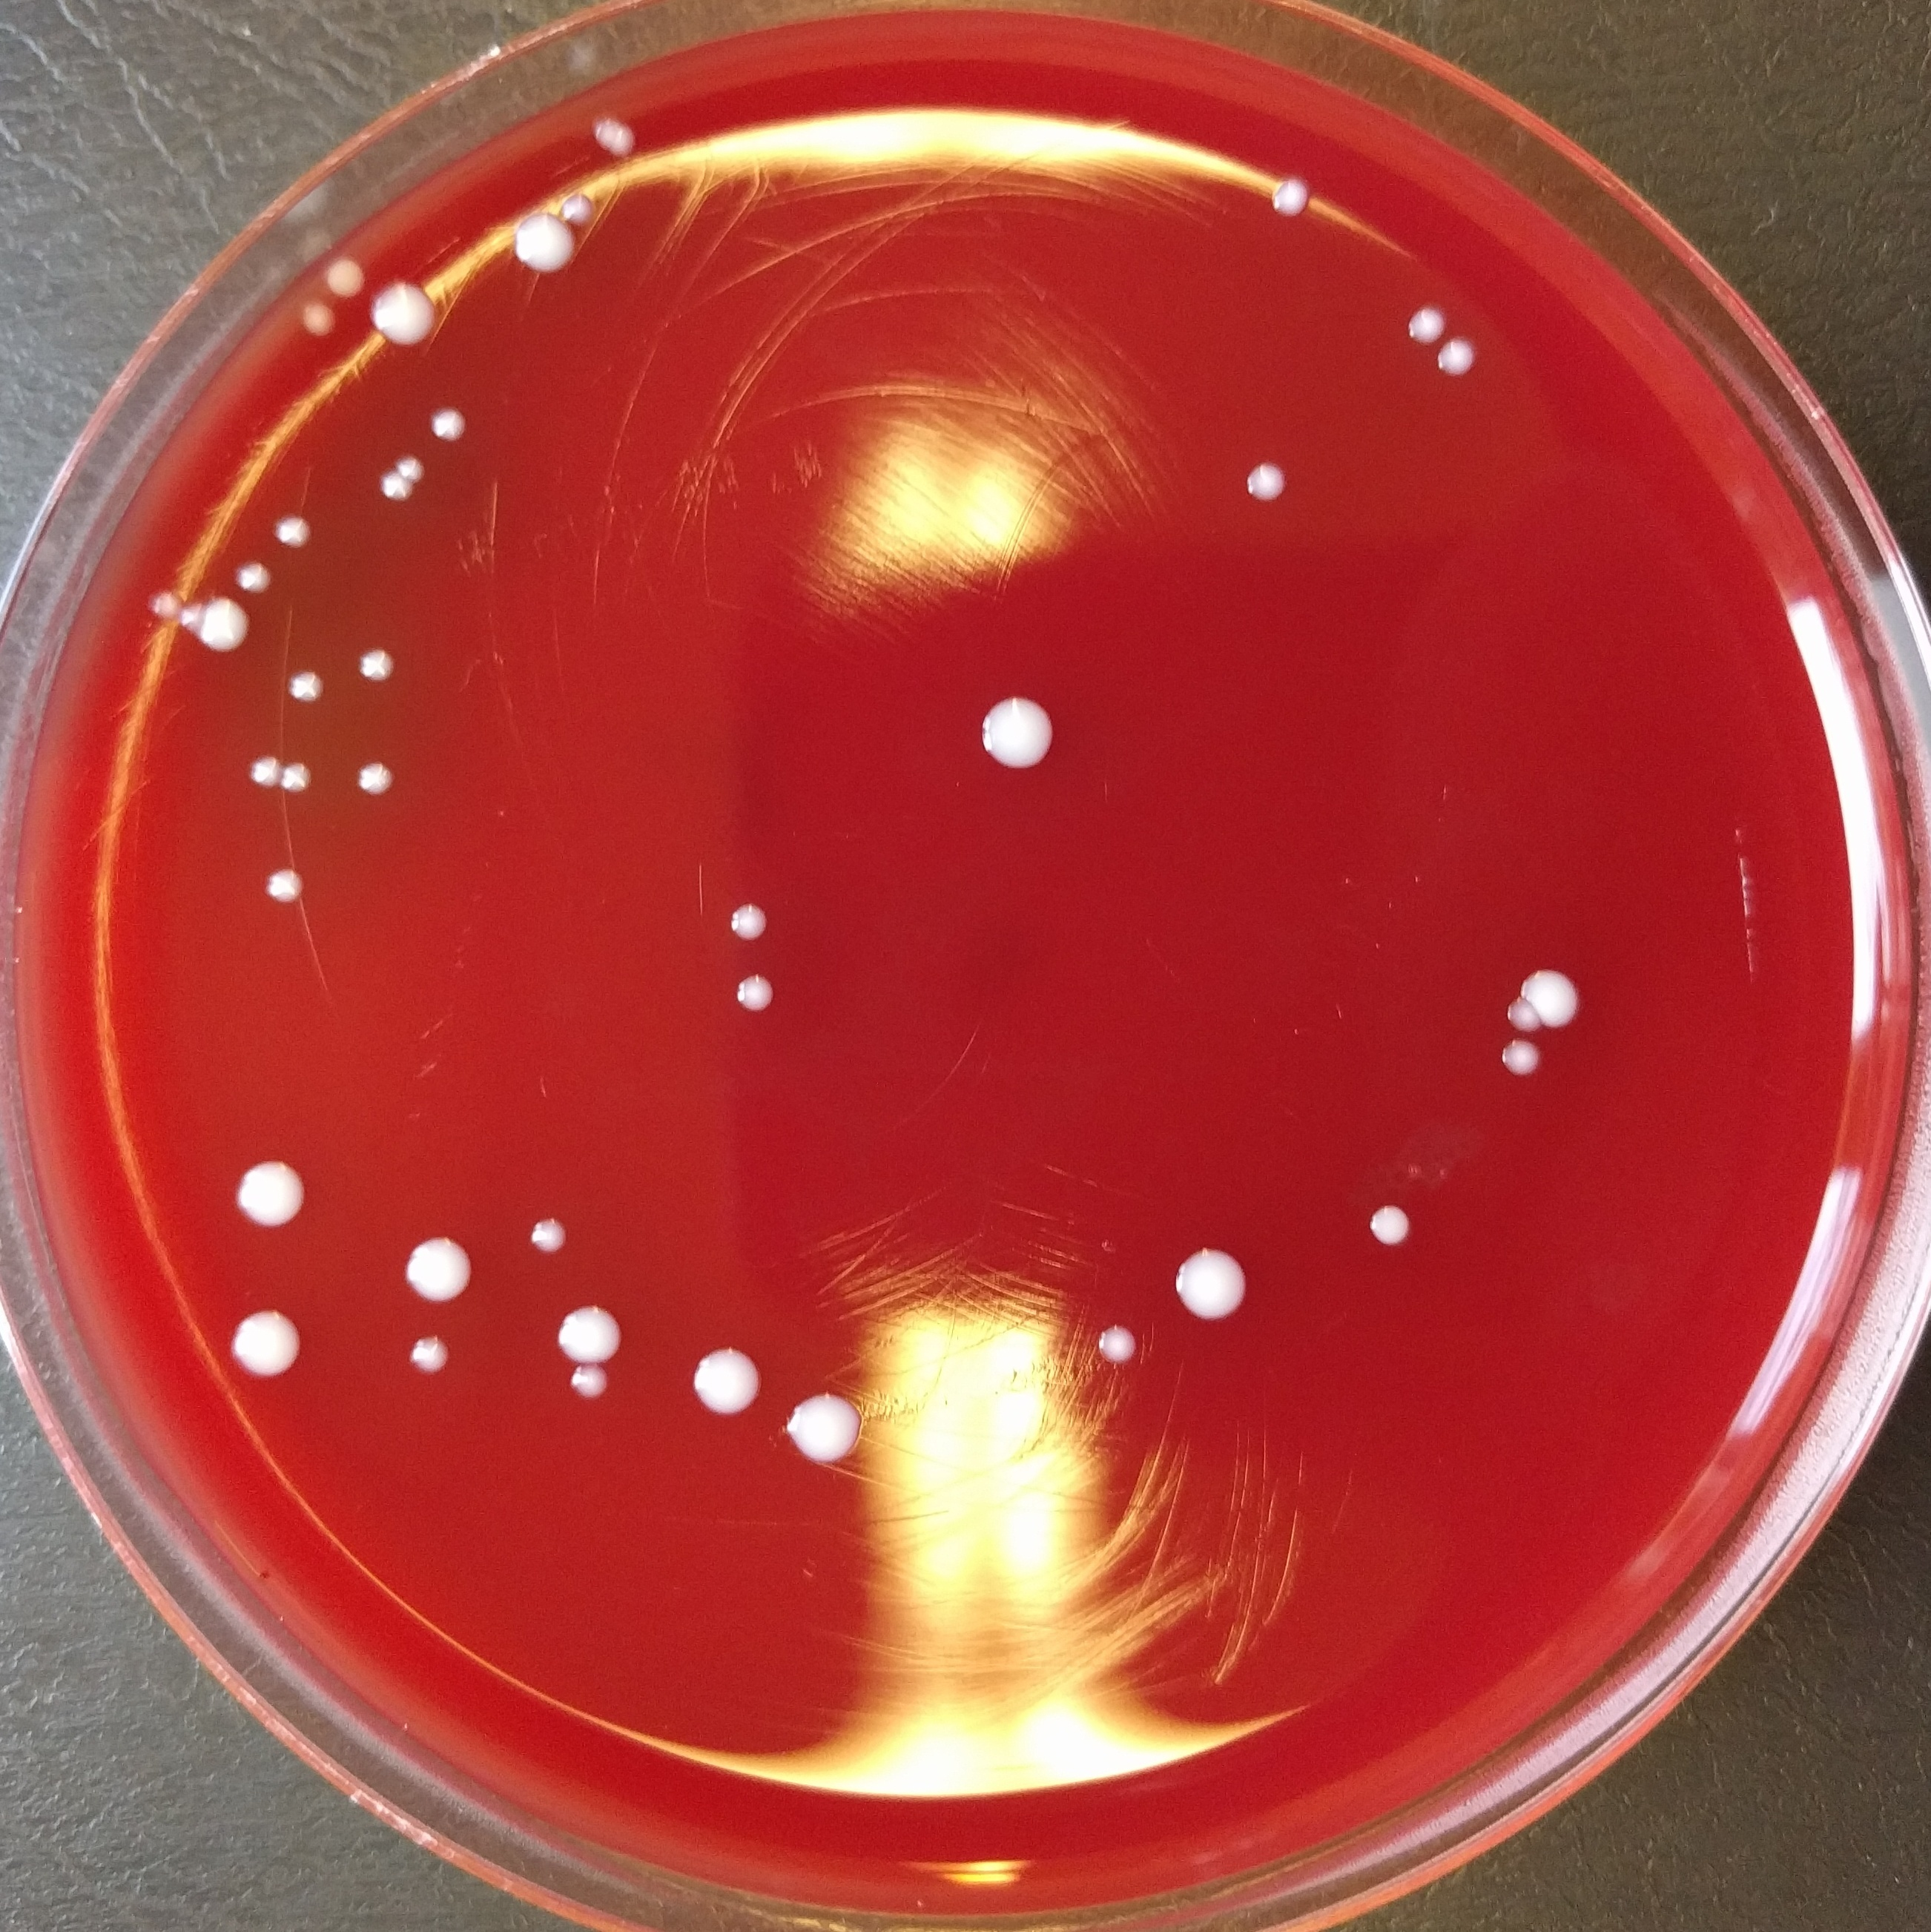sp23: (941, 692, 1116, 803), (1238, 131, 1342, 269), (207, 1295, 318, 1403), (773, 1376, 868, 1491), (1434, 343, 1521, 469), (1346, 1177, 1445, 1281), (1201, 455, 1312, 543), (534, 1281, 637, 1373), (221, 1152, 325, 1240), (1167, 1237, 1252, 1336), (706, 962, 799, 1051), (1512, 952, 1611, 1035), (1434, 1037, 1568, 1095), (1072, 1274, 1137, 1392), (1358, 262, 1450, 343), (385, 1221, 477, 1302), (375, 280, 456, 357), (370, 1315, 463, 1382), (670, 1348, 773, 1408), (553, 1368, 617, 1461), (504, 211, 584, 283), (518, 1189, 596, 1261), (276, 294, 354, 359), (244, 865, 332, 922), (200, 580, 253, 665), (541, 186, 610, 242), (576, 104, 656, 152), (718, 881, 771, 952), (230, 548, 279, 619), (421, 400, 493, 446), (348, 757, 396, 824), (1492, 987, 1549, 1040), (133, 575, 179, 639), (163, 587, 207, 651), (263, 511, 322, 556), (322, 253, 371, 303), (348, 655, 403, 699), (352, 478, 414, 515), (278, 667, 325, 715), (242, 755, 281, 798), (400, 442, 442, 479), (281, 761, 313, 798)
